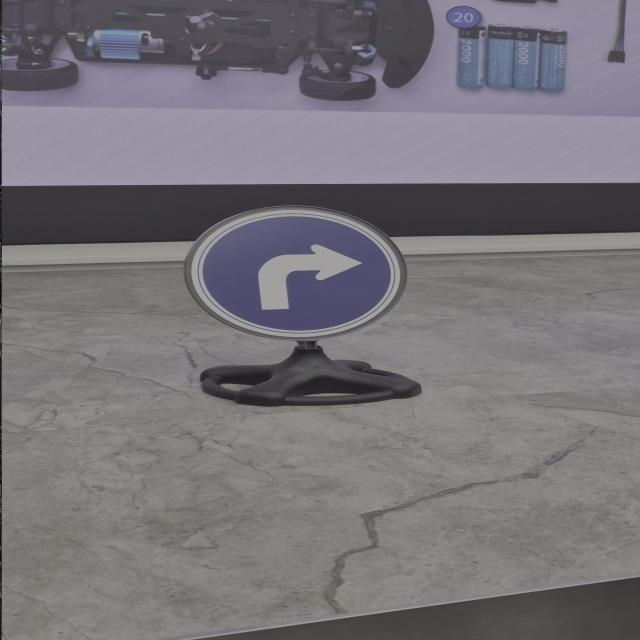right_dierection: (168, 198, 423, 344)
